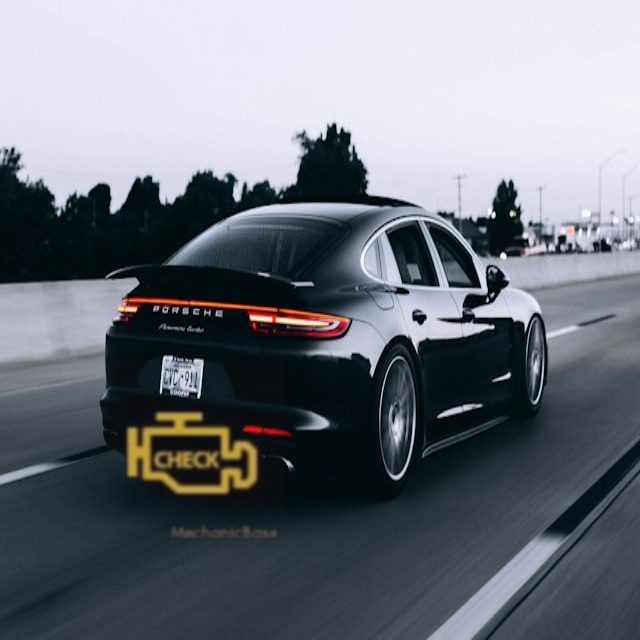symbol: (97, 360, 285, 548)
